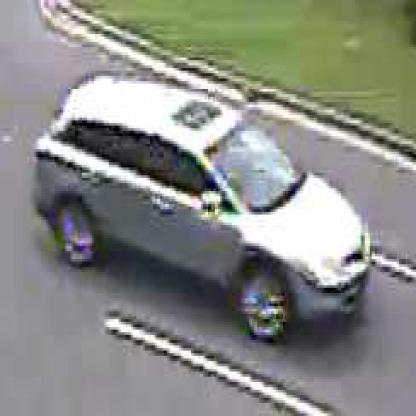car: (30, 61, 385, 360)
